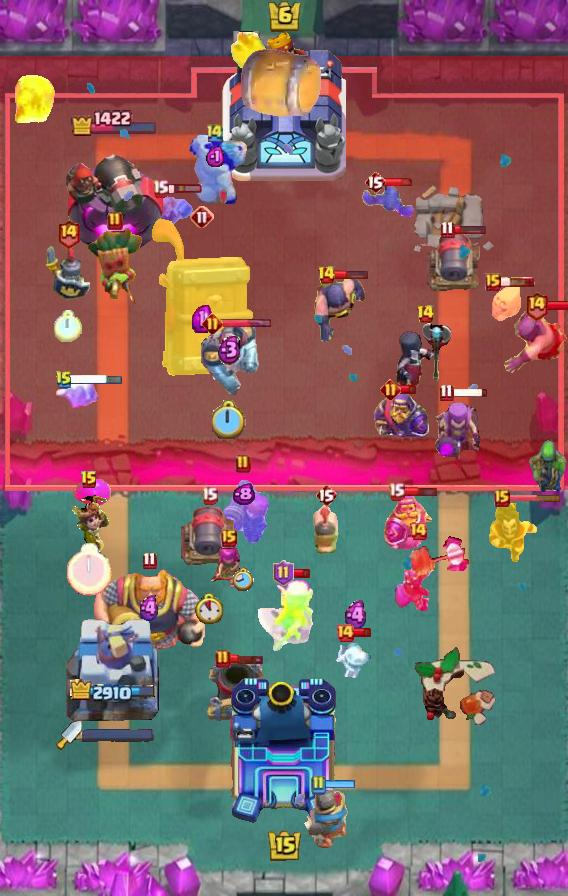archer: (208, 547, 250, 593)
bar: (70, 373, 124, 386), (220, 318, 272, 329), (508, 493, 562, 502), (403, 485, 438, 498), (166, 183, 203, 195), (229, 653, 265, 665), (499, 276, 535, 288), (452, 223, 487, 235), (452, 387, 489, 398), (334, 269, 369, 280), (323, 779, 357, 790), (383, 177, 415, 187), (547, 299, 568, 312), (353, 627, 372, 638), (292, 568, 311, 579), (398, 384, 417, 395)
bar-level: (524, 290, 549, 321), (56, 218, 81, 249), (190, 205, 214, 229), (273, 560, 294, 586), (315, 483, 337, 507), (364, 170, 386, 194), (380, 379, 401, 400), (202, 313, 223, 334), (205, 122, 225, 143), (335, 623, 355, 643), (408, 521, 428, 541), (416, 304, 435, 324), (317, 265, 336, 285), (80, 470, 98, 490), (55, 370, 73, 390), (201, 486, 218, 505), (388, 482, 405, 501), (152, 179, 169, 198), (310, 775, 326, 795), (215, 649, 231, 669), (235, 454, 251, 474), (107, 211, 123, 231), (221, 529, 237, 547), (494, 489, 510, 507), (485, 273, 501, 291), (142, 551, 157, 570), (439, 383, 454, 402), (440, 220, 455, 239)
bat-evolution: (361, 186, 417, 220)
cannoneer-tower: (64, 138, 164, 256)
clock: (67, 543, 112, 596), (212, 400, 246, 439), (54, 310, 82, 342), (195, 593, 223, 624), (233, 567, 254, 592)
dagger-duchess-tower: (66, 611, 162, 731)
dagger-duchess-tower-bar: (82, 728, 154, 742)
dart-goblin: (85, 225, 145, 305)
electro-wizard: (486, 503, 544, 567)
elixir: (342, 600, 371, 631), (217, 334, 242, 365), (137, 595, 162, 622), (192, 305, 212, 333), (232, 483, 255, 506), (206, 145, 224, 167)
elixir-golem-small: (71, 479, 111, 507)
executioner: (502, 309, 568, 375), (313, 274, 367, 344)
firecracker-evolution: (215, 476, 271, 548)
guard: (44, 245, 92, 303)
heal-spirit: (491, 278, 525, 322)
ice-spirit: (333, 636, 379, 680)
ice-spirit-evolution: (54, 376, 104, 414)
king-tower: (222, 31, 346, 181), (228, 676, 340, 826)
knight: (302, 788, 350, 849)
knight-evolution: (383, 493, 432, 551), (373, 390, 429, 439)
little-prince: (67, 494, 111, 555)
mega-minion: (198, 321, 260, 399)
mortar: (205, 657, 267, 725)
mother-witch: (432, 398, 482, 460)
night-witch: (395, 320, 455, 396)
royal-hog: (311, 499, 341, 555)
spear-goblin: (528, 438, 568, 496)
tower-bar: (70, 109, 159, 137), (70, 679, 158, 705)
valkyrie: (151, 194, 195, 244)
valkyrie-evolution: (392, 534, 470, 614)
